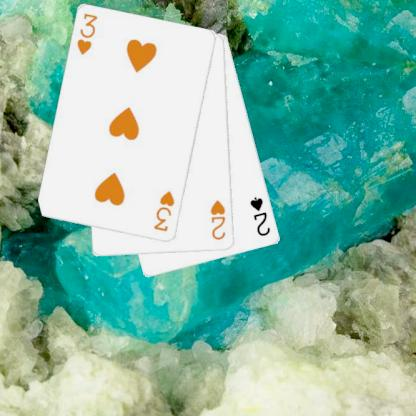2H: (208, 197, 227, 242)
2S: (248, 194, 272, 238)
3H: (74, 11, 100, 57), (151, 188, 176, 233)
